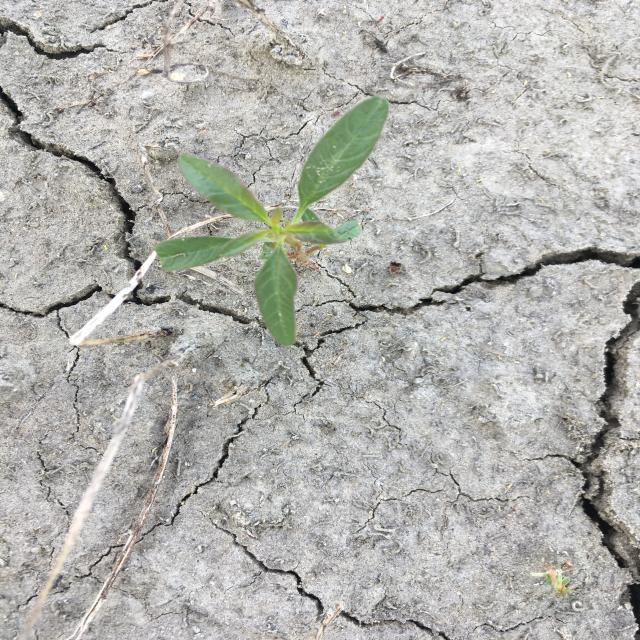Waterhemp: (153, 94, 392, 346)
